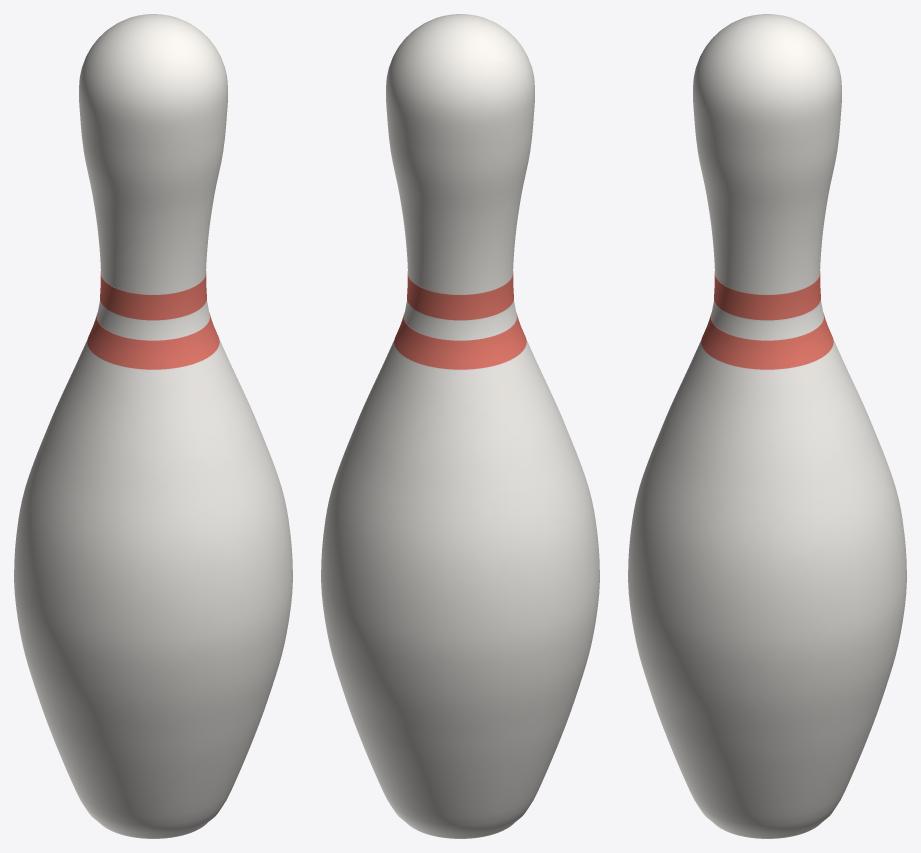
File: bowling-pin.glb
3 renders of one model, left to right at view 1: azimuth 30°, elevation 25°; view 2: azimuth 150°, elevation 25°; view 3: azimuth 270°, elevation 25°, orthographic.
Visible parts, largest first — view 1: bowling-pin_body; view 2: bowling-pin_body; view 3: bowling-pin_body.
Boxes of the visible parts, x1,y1,x2,y2 form: bowling-pin_body: (14,14,292,838); bowling-pin_body: (321,14,599,838); bowling-pin_body: (628,14,906,838).
Size of the model in its own units: 0.121 by 0.381 by 0.121.
Materials: 1 (1 with a texture image).
